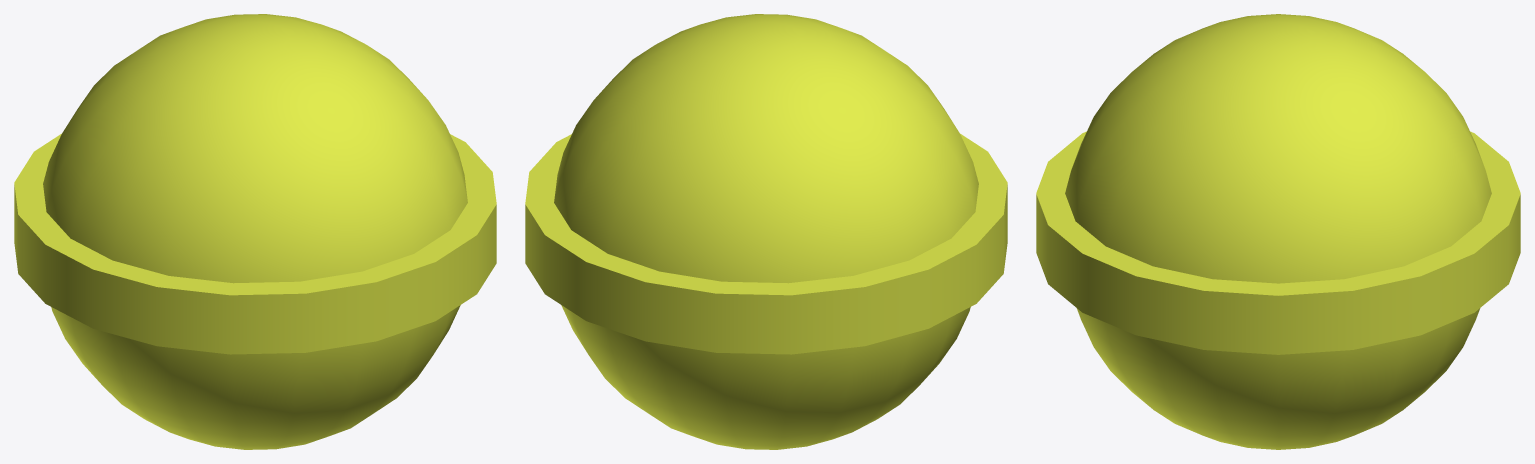
Rendered from bell.fbx.
The picture shows the model from 3 angles, left to right: view 1: azimuth 30°, elevation 25°; view 2: azimuth 150°, elevation 25°; view 3: azimuth 270°, elevation 25°; orthographic projection.
Visible parts, largest first — view 1: bell; view 2: bell; view 3: bell.
Boxes of the visible parts, <box> form: bell: <box>14,14,496,449</box>; bell: <box>525,14,1007,449</box>; bell: <box>1036,14,1520,449</box>.
Bounding box in the file's own units: 33.1 × 29.8 × 33.1.
